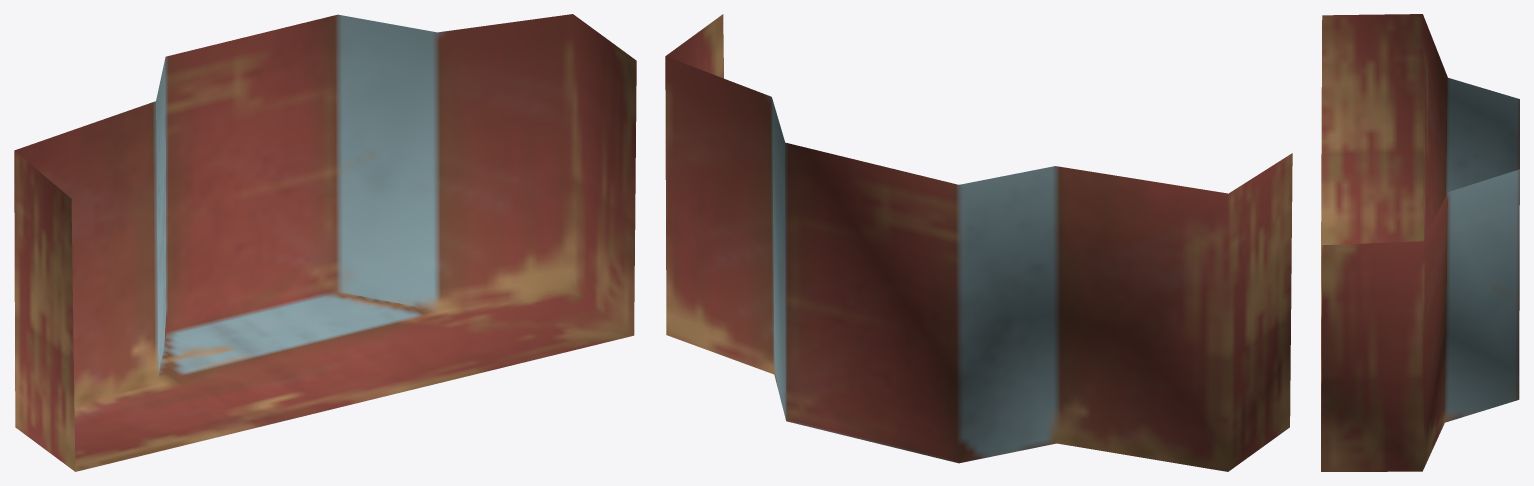
File: SM_Voiture.fbx
The picture shows the model from 3 angles, left to right: view 1: azimuth 30°, elevation 25°; view 2: azimuth 150°, elevation 25°; view 3: azimuth 270°, elevation 25°; orthographic projection. The views are drawn at different scales.
Visible parts, largest first — view 1: SM_voiture; view 2: SM_voiture; view 3: SM_voiture.
Boxes of the visible parts, x1=… form: SM_voiture: x1=14, y1=14, x2=636, y2=471; SM_voiture: x1=665, y1=14, x2=1292, y2=471; SM_voiture: x1=1321, y1=14, x2=1519, y2=471.
Size of the model in its own units: 28.84 by 13.5 by 10.54.
